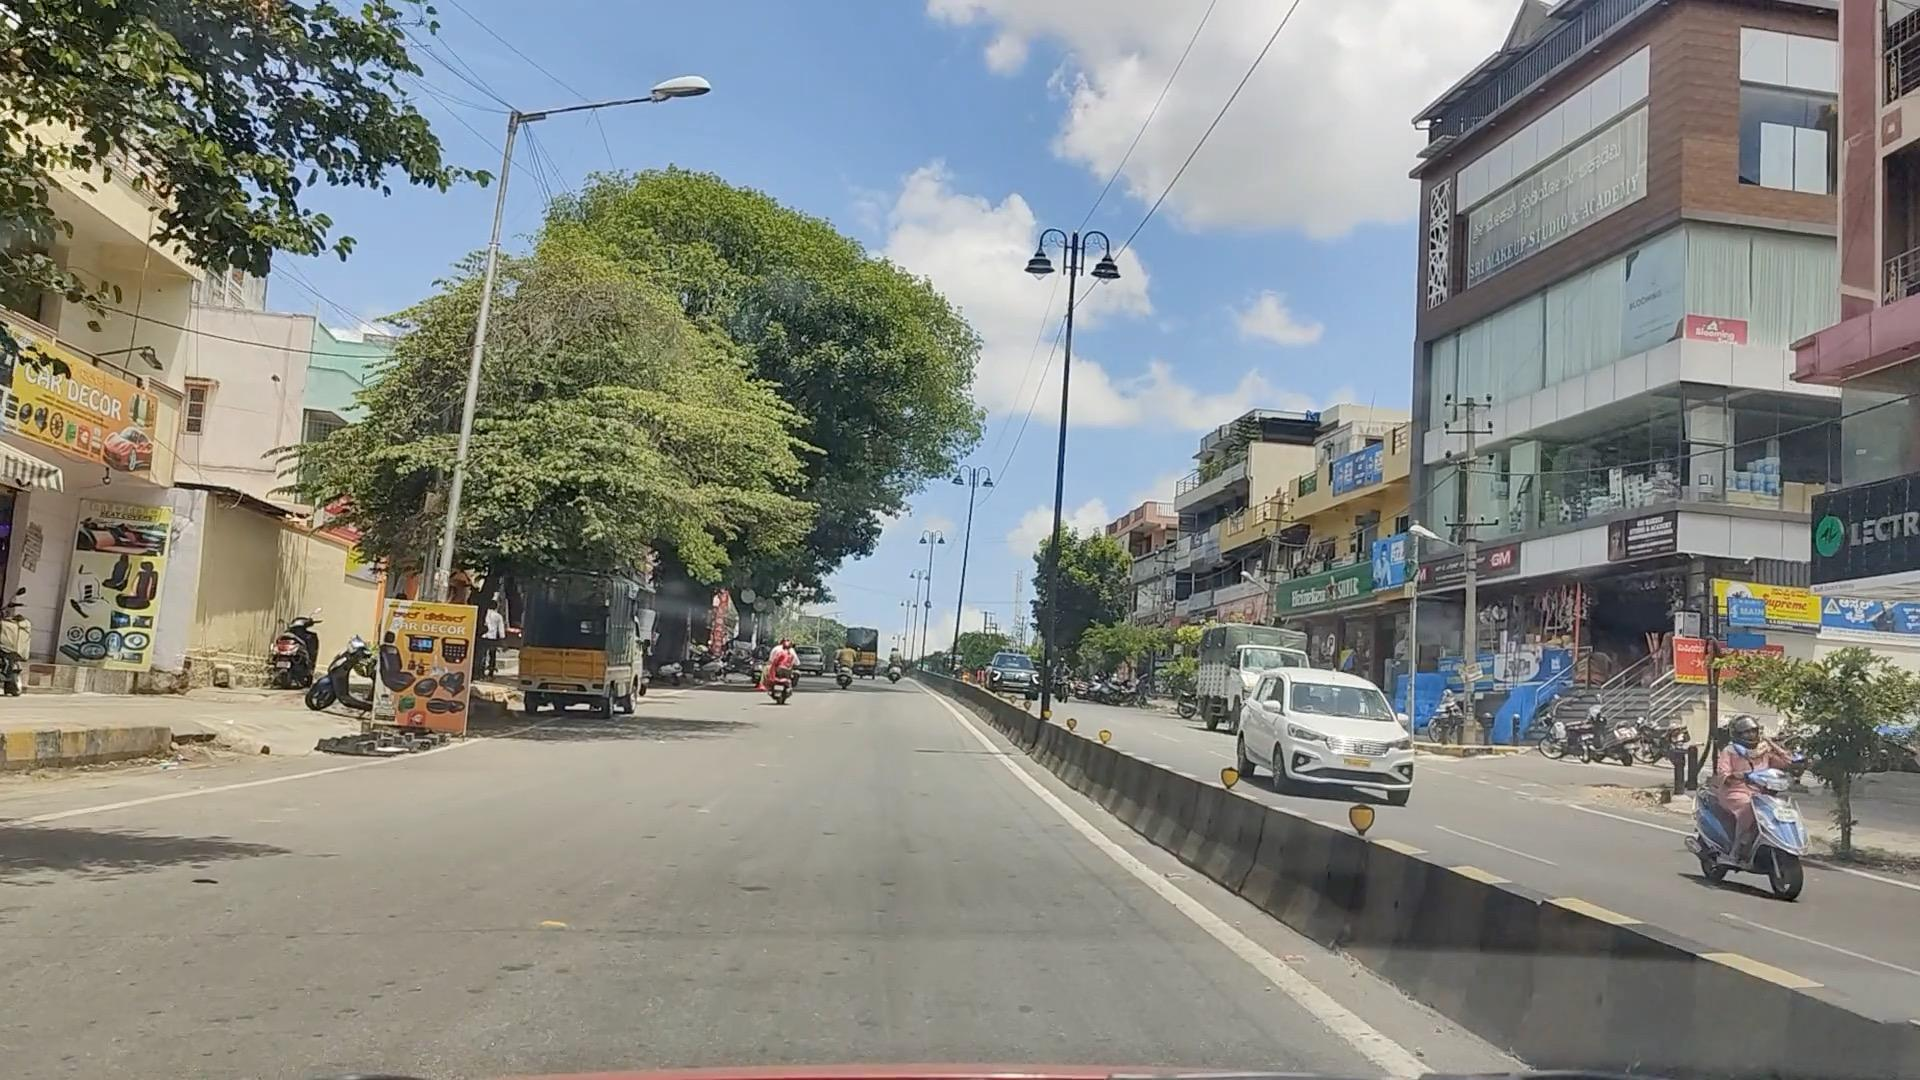HMV: (513, 570, 634, 724)
